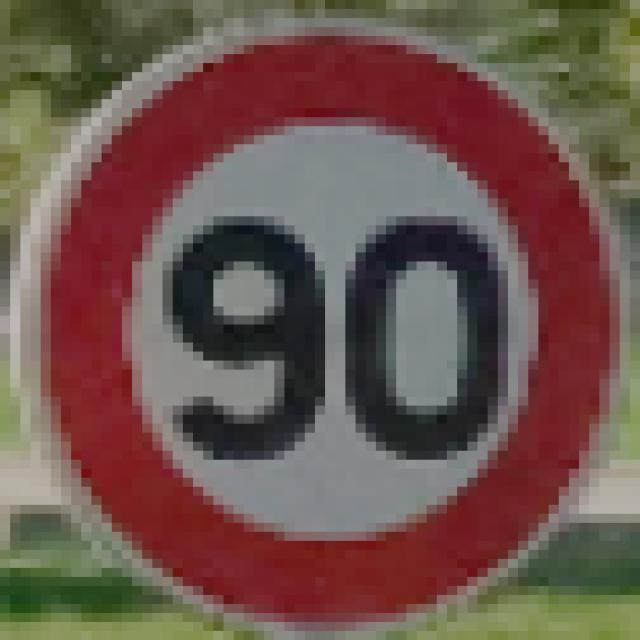speed_90: (0, 0, 630, 631)
